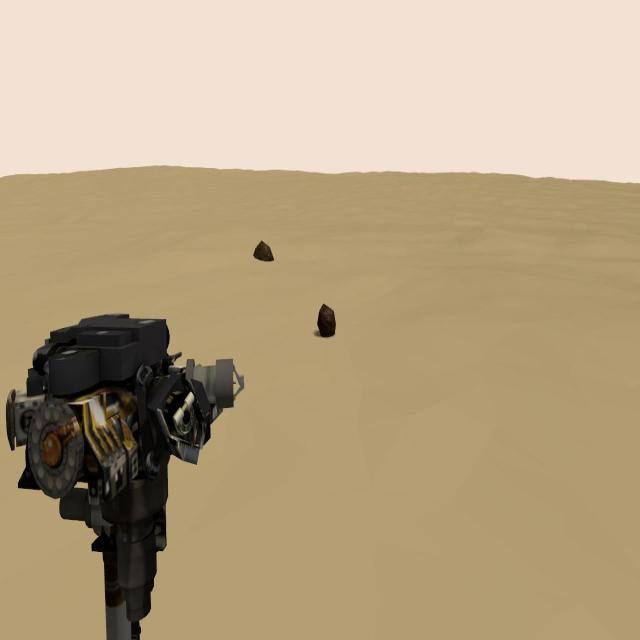rock: (317, 302, 336, 338), (254, 241, 274, 262)
